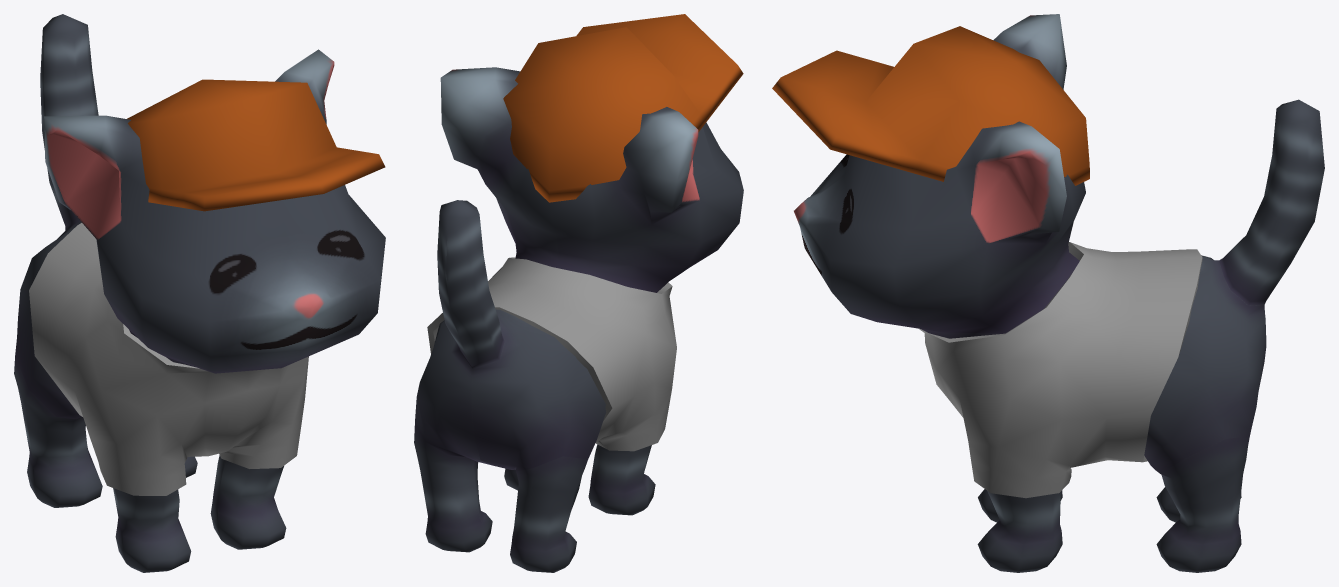
The model's file is Leader Cat04.fbx.
3 renders of one model, left to right at view 1: azimuth 30°, elevation 25°; view 2: azimuth 150°, elevation 25°; view 3: azimuth 270°, elevation 25°, orthographic. The views are drawn at different scales.
Parts seen in each view (by area): view 1: Cat_Base003, tshirt001, Org_Cat_Hat; view 2: Cat_Base003, Org_Cat_Hat, tshirt001; view 3: Cat_Base003, tshirt001, Org_Cat_Hat.
Boxes of the visible parts, bbox=[...] form: Cat_Base003: bbox=[14, 14, 385, 572]; tshirt001: bbox=[29, 223, 308, 495]; Org_Cat_Hat: bbox=[127, 79, 385, 211]; Cat_Base003: bbox=[414, 67, 743, 572]; Org_Cat_Hat: bbox=[503, 14, 743, 202]; tshirt001: bbox=[427, 257, 676, 451]; Cat_Base003: bbox=[794, 14, 1324, 572]; tshirt001: bbox=[919, 242, 1202, 498]; Org_Cat_Hat: bbox=[772, 26, 1089, 185].
Size of the model in its own units: 1.75 by 2.95 by 2.91.
3 materials, 1 textured.
